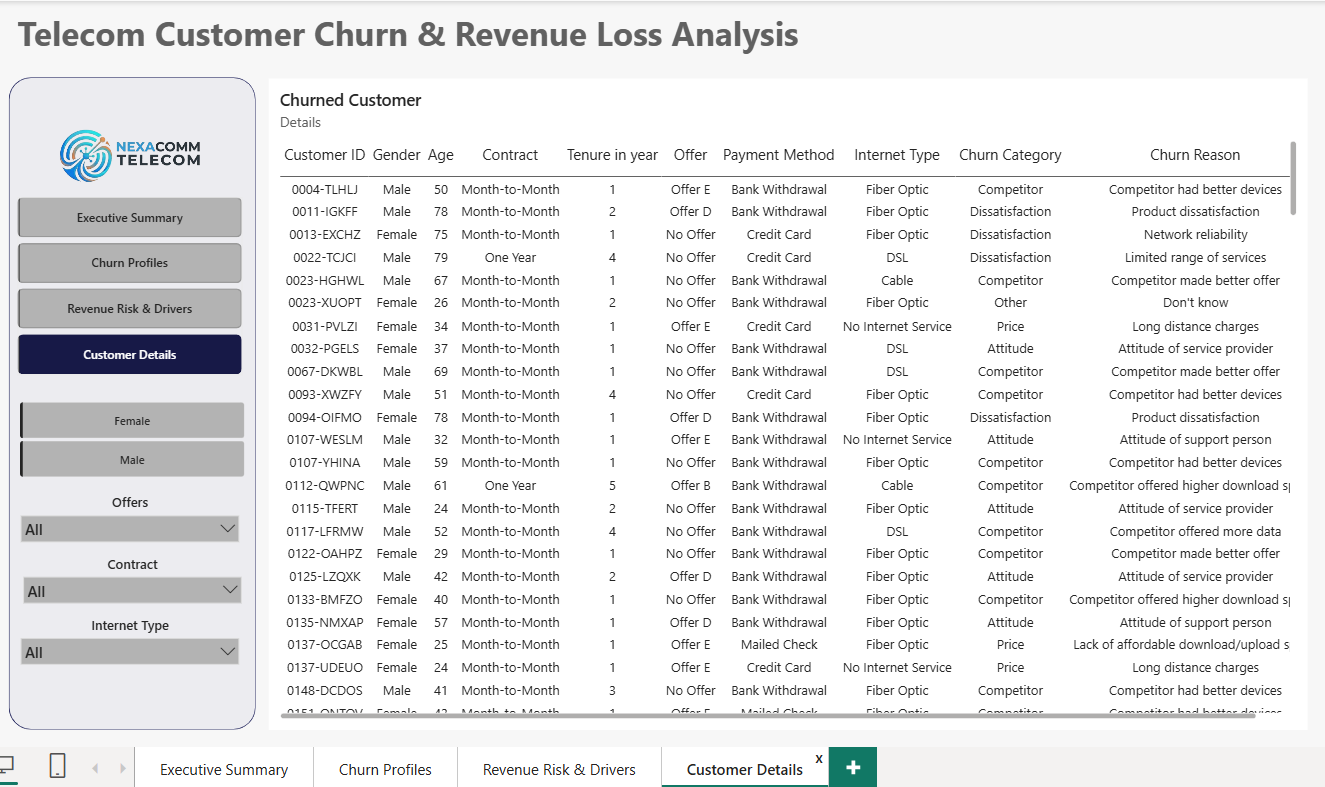

The page's visual inventory and layout, read from the dashboard file:
{"tool":"powerbi","page":{"name":"Customer Details","canvas":[1920,1080],"ordinal":3},"visuals":[{"type":"textbox","box":[25.9,13,1866.7,79.6],"z":0},{"type":"shape","box":[13,111.1,357.4,944.4],"z":1000},{"type":"tableEx","title":"Churned Customer","fields":{"Values":["fact_table.Customer ID","dim_customer.Gender","dim_customer.Age","dim_contract.Contract","fact_table.Tenure in year","dim_offer.Offer","dim_payment.Payment Method","dim_internet_type.Internet Type","dim_ChurnCategory.Churn Category","fact_table.Churn Reason"]},"box":[388.7,111.3,1503.8,943.4],"z":2000},{"type":"pageNavigator","box":[25.3,284.1,325.7,257],"z":3000},{"type":"advancedSlicerVisual","fields":{"Values":["dim_customer.Gender"]},"box":[29,580.9,325.7,108.6],"z":4000},{"type":"slicer","title":"Offers","fields":{"Values":["dim_offer.Offer"]},"box":[25.3,713,325.7,88.7],"z":5000},{"type":"slicer","title":"Contract","fields":{"Values":["dim_contract.Contract"]},"box":[29,801.7,325.7,88.7],"z":6000},{"type":"slicer","title":"Internet Type","fields":{"Values":["dim_internet_type.Internet Type"]},"box":[25.3,890.4,325.7,88.7],"z":7000},{"type":"image","box":[25.3,177.3,325.7,90.5],"z":8000}]}

Visuals, with their boxes on the page's 1920x1080 design canvas (x1, y1, x2, y2). These are canvas units, not pixel positions in the 1325x787 screenshot, which may show the page scaled, cropped or inside an application window:
textbox: pyautogui.locateOnScreen(26, 13, 1893, 93)
shape: pyautogui.locateOnScreen(13, 111, 370, 1056)
"Churned Customer" tableEx: pyautogui.locateOnScreen(389, 111, 1892, 1055)
pageNavigator: pyautogui.locateOnScreen(25, 284, 351, 541)
advancedSlicerVisual - dim_customer.Gender: pyautogui.locateOnScreen(29, 581, 355, 690)
"Offers" slicer: pyautogui.locateOnScreen(25, 713, 351, 802)
"Contract" slicer: pyautogui.locateOnScreen(29, 802, 355, 890)
"Internet Type" slicer: pyautogui.locateOnScreen(25, 890, 351, 979)
image: pyautogui.locateOnScreen(25, 177, 351, 268)
